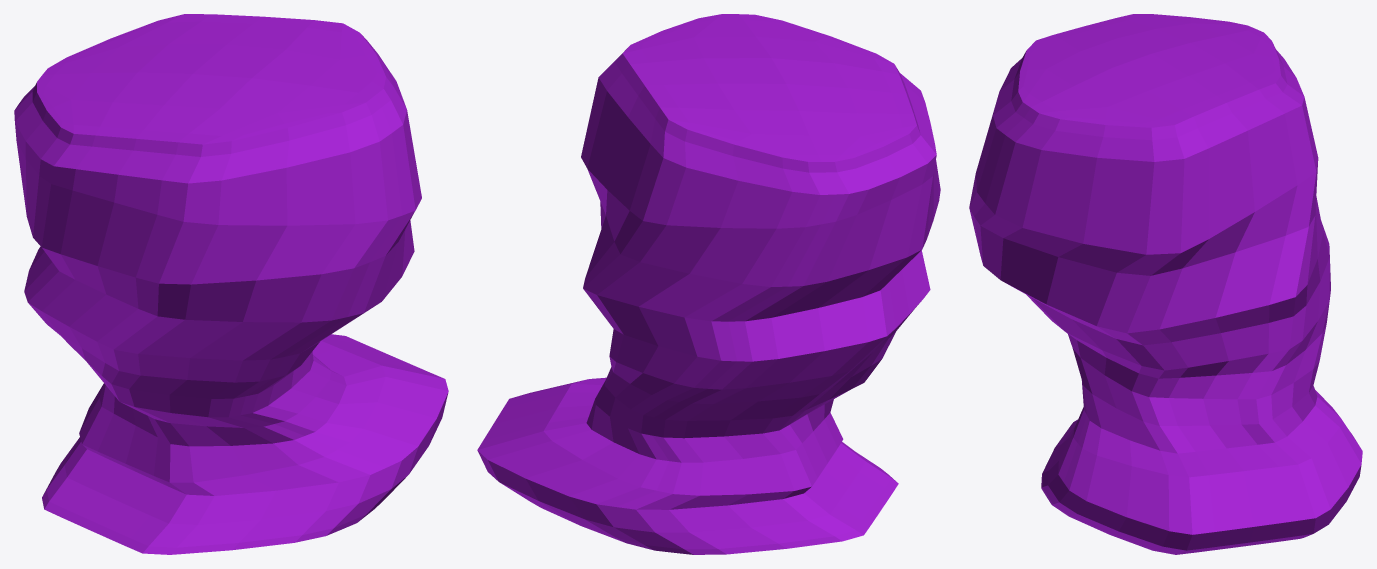
File: SceneRockSMALL.FBX
3 views of the same model, side by side, from view 1: azimuth 30°, elevation 25°; view 2: azimuth 150°, elevation 25°; view 3: azimuth 270°, elevation 25° (orthographic). The views are drawn at different scales.
Visible parts, largest first — view 1: SceneRockSMALL_LP; view 2: SceneRockSMALL_LP; view 3: SceneRockSMALL_LP.
Boxes of the visible parts, bbox=[...] form: SceneRockSMALL_LP: bbox=[14, 14, 448, 554]; SceneRockSMALL_LP: bbox=[477, 14, 940, 554]; SceneRockSMALL_LP: bbox=[969, 14, 1362, 554].
Size of the model in its own units: 17.35 by 17.12 by 15.05.
